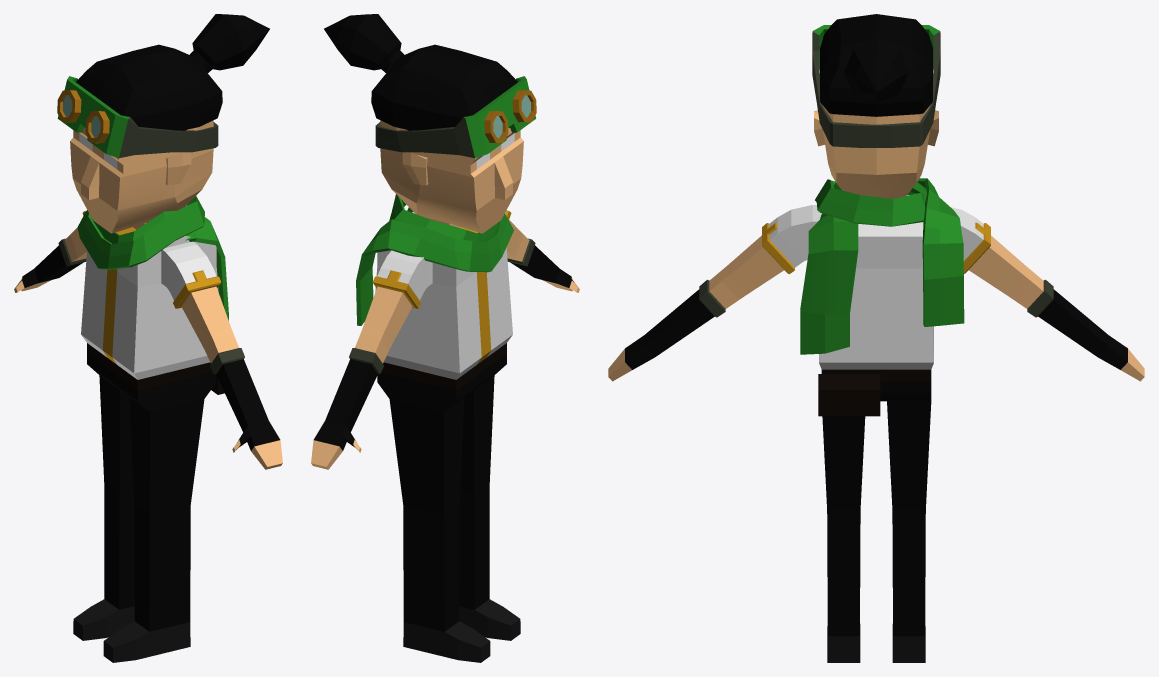
File: darkness_character_treasurehunter.FBX
3 renders of one model, left to right at view 1: azimuth 30°, elevation 25°; view 2: azimuth 150°, elevation 25°; view 3: azimuth 270°, elevation 25°, orthographic. The views are drawn at different scales.
Parts seen in each view (by area): view 1: Object047; view 2: Object047; view 3: Object047.
Part boxes in pixels (bbox=[...]): Object047: bbox=[14, 14, 282, 662]; Object047: bbox=[311, 14, 579, 662]; Object047: bbox=[608, 14, 1144, 662].
Bounding box in the file's own units: 5.75 × 17.06 × 12.72.
